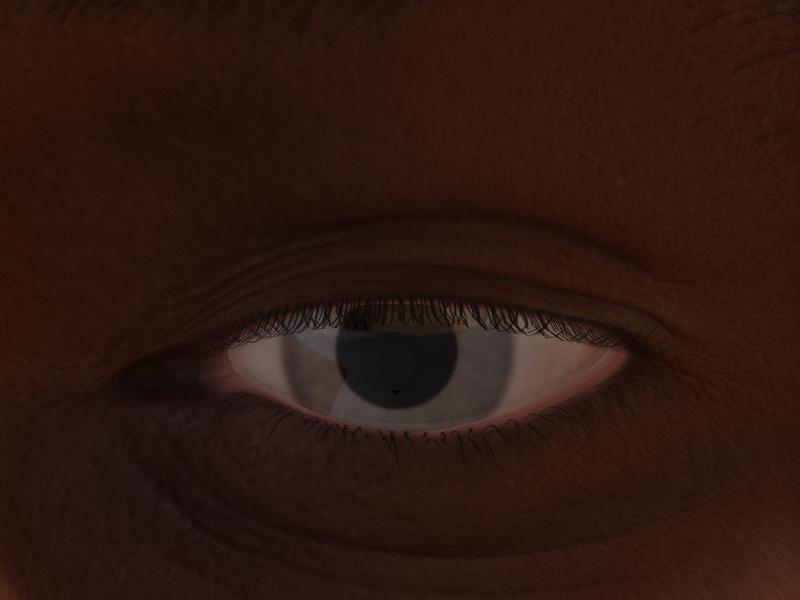eye: (282, 300, 513, 425)
